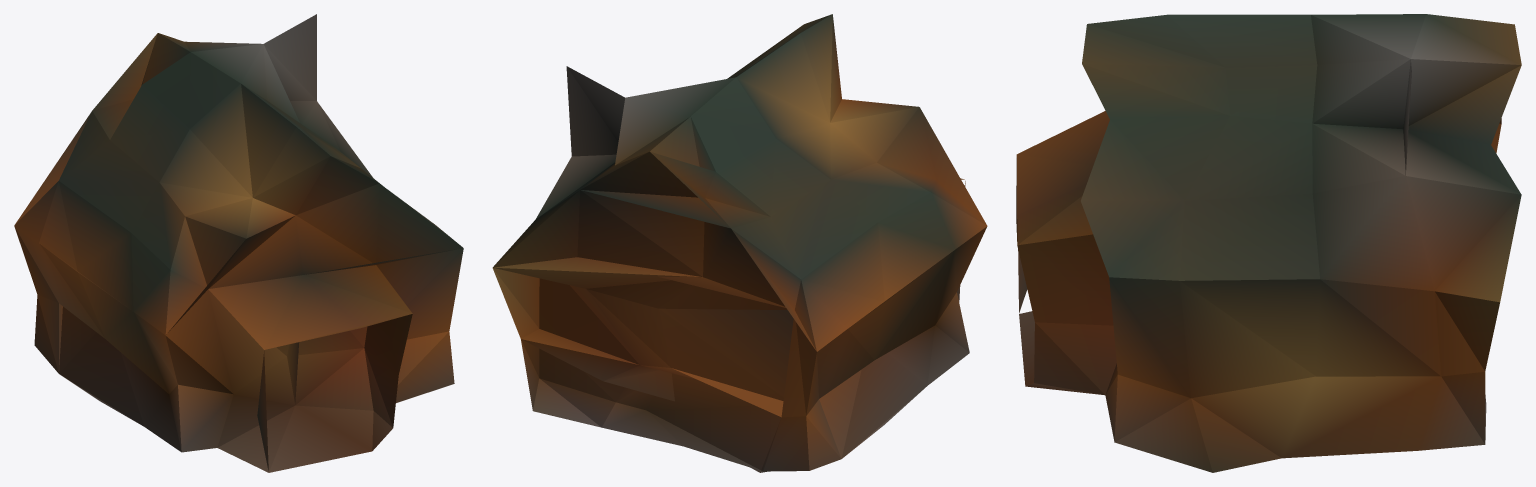
Rendered from cabin.glb.
The picture shows the model from 3 angles, left to right: view 1: azimuth 30°, elevation 25°; view 2: azimuth 150°, elevation 25°; view 3: azimuth 270°, elevation 25°; orthographic projection. The views are drawn at different scales.
Visible parts, largest first — view 1: cabin-far; view 2: cabin-far; view 3: cabin-far.
Part boxes in pixels (<box>): cabin-far: <box>14,14,463,472</box>; cabin-far: <box>492,14,987,472</box>; cabin-far: <box>1016,14,1521,472</box>.
Size of the model in its own units: 5.82 by 5.62 by 6.65.
